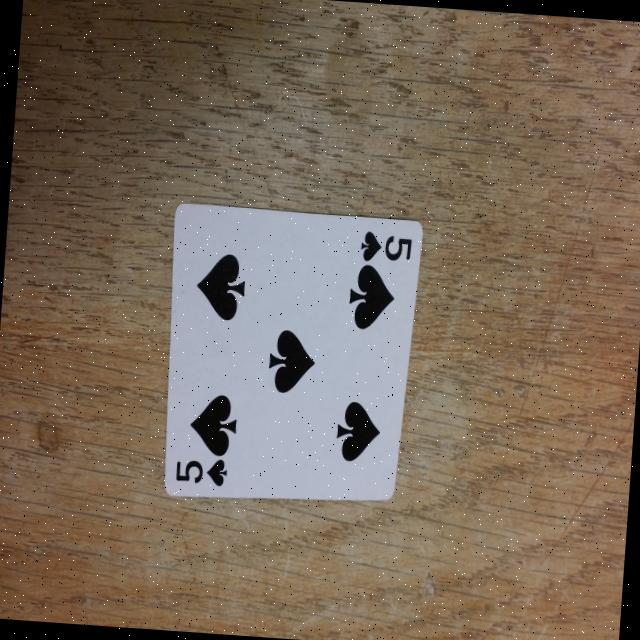5s: (354, 220, 414, 274), (169, 449, 230, 495)
